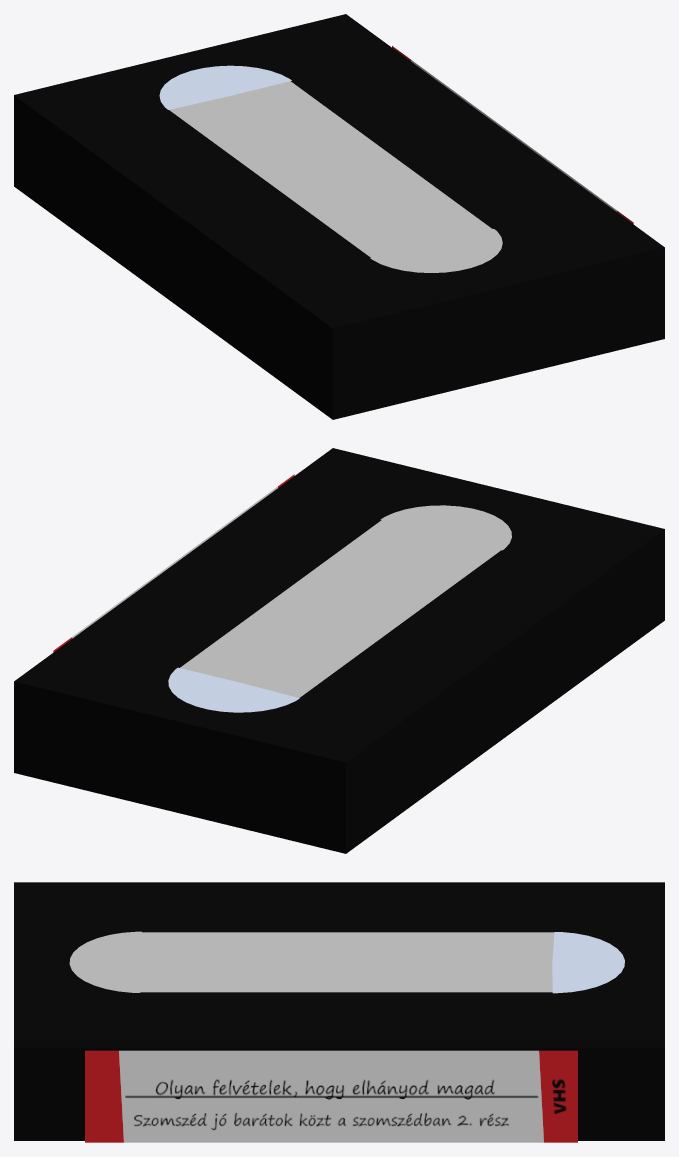
File: kazi.fbx
The picture shows the model from 3 angles, top to bottom: view 1: azimuth 30°, elevation 25°; view 2: azimuth 150°, elevation 25°; view 3: azimuth 270°, elevation 25°; orthographic projection. The views are drawn at different scales.
Visible parts, largest first — view 1: Cube; view 2: Cube; view 3: Cube.
Boxes of the visible parts, x1=… form: Cube: x1=14, y1=14, x2=664, y2=419; Cube: x1=14, y1=448, x2=664, y2=853; Cube: x1=14, y1=882, x2=664, y2=1142.
Size of the model in its own units: 162 by 42.29 by 266.
